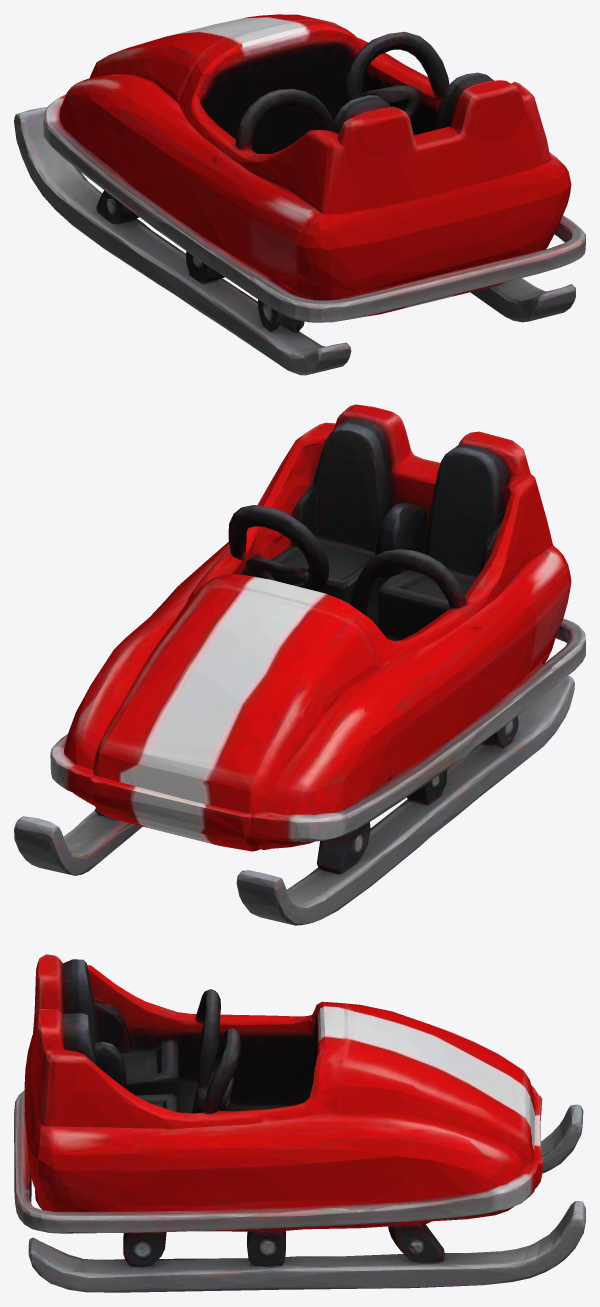
The model's file is cs_v_bob.glb.
The picture shows the model from 3 angles, top to bottom: view 1: azimuth 30°, elevation 25°; view 2: azimuth 150°, elevation 25°; view 3: azimuth 270°, elevation 25°; orthographic projection. The views are drawn at different scales.
Parts seen in each view (by area): view 1: v_bob; view 2: v_bob; view 3: v_bob.
Boxes of the visible parts, bbox=[...] form: v_bob: bbox=[14, 14, 585, 375]; v_bob: bbox=[14, 404, 585, 925]; v_bob: bbox=[14, 954, 585, 1292].
Size of the model in its own units: 1.78 by 1.43 by 3.
1 material, 1 textured.
